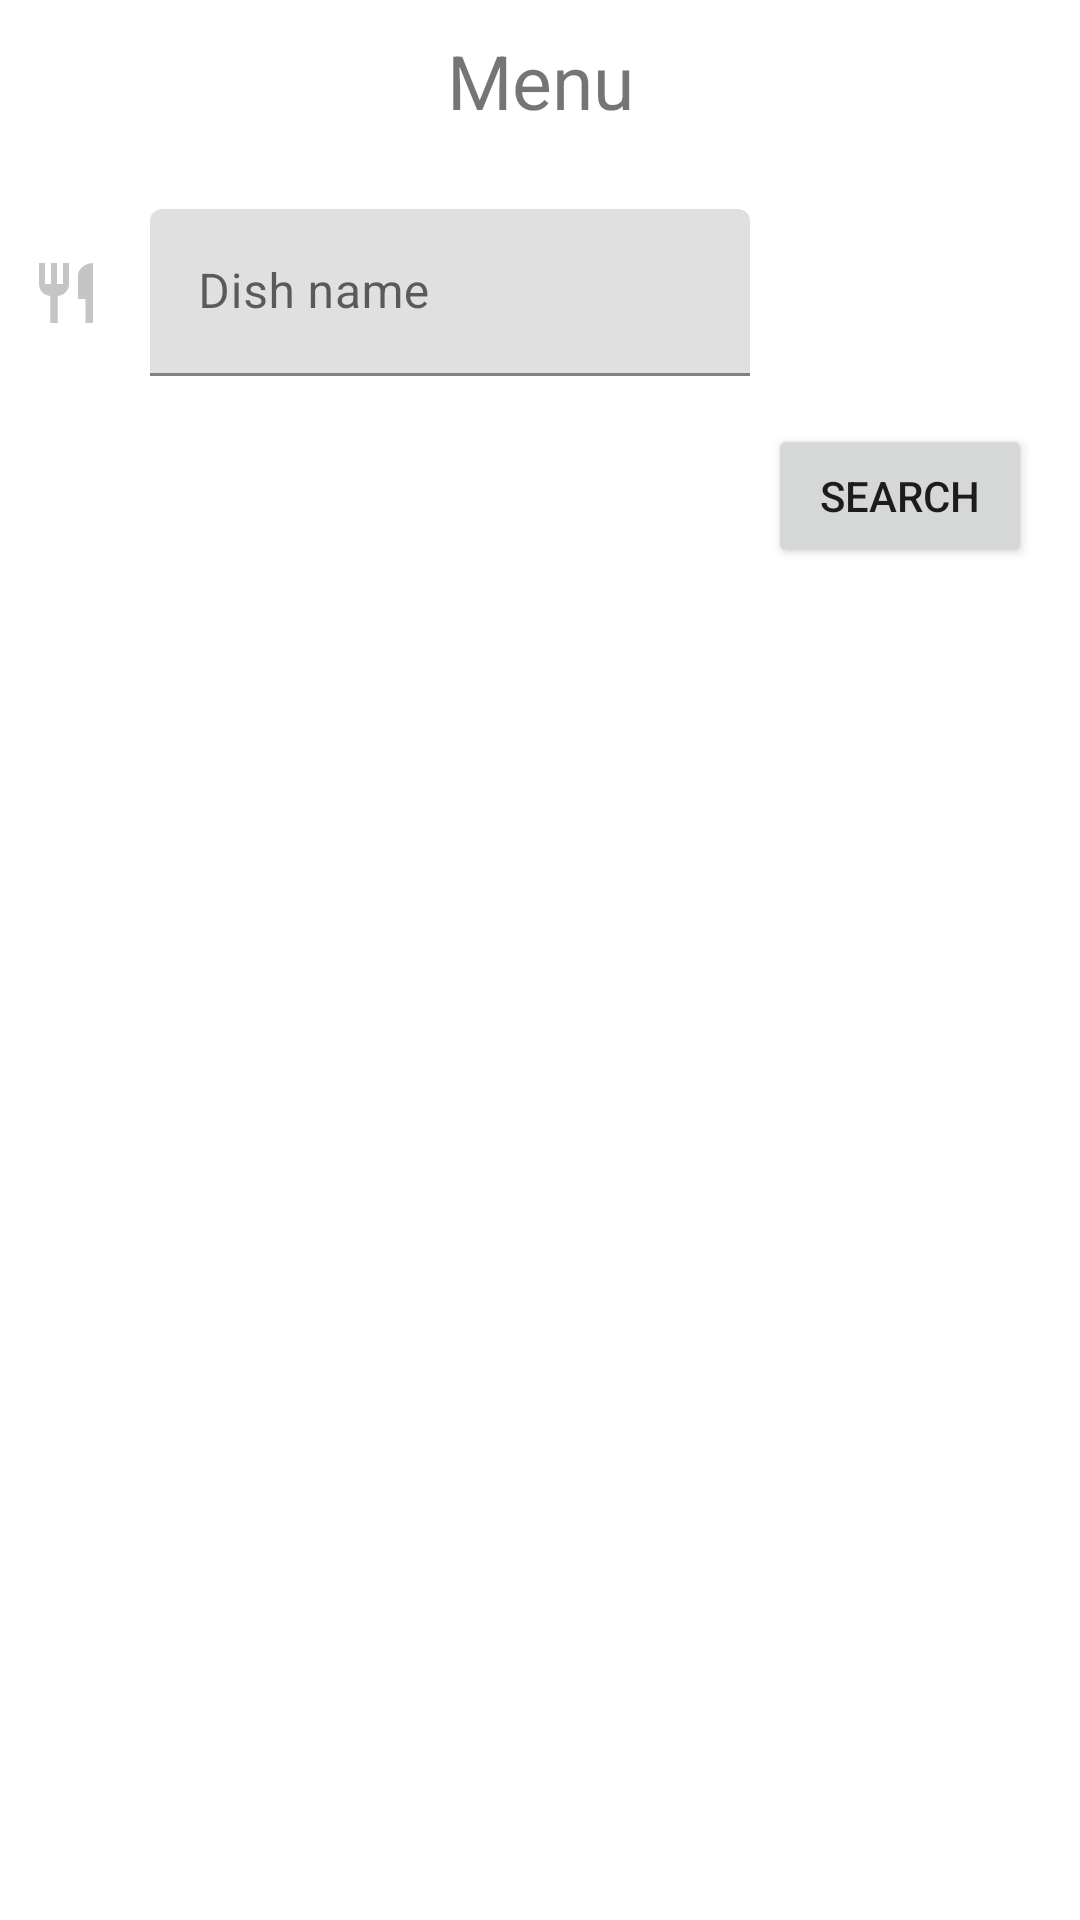

Named icons in this screenshot (1080x1920) and their bounding boxes, (x1,y1,x2,y2):
food: (39,263,93,323)
